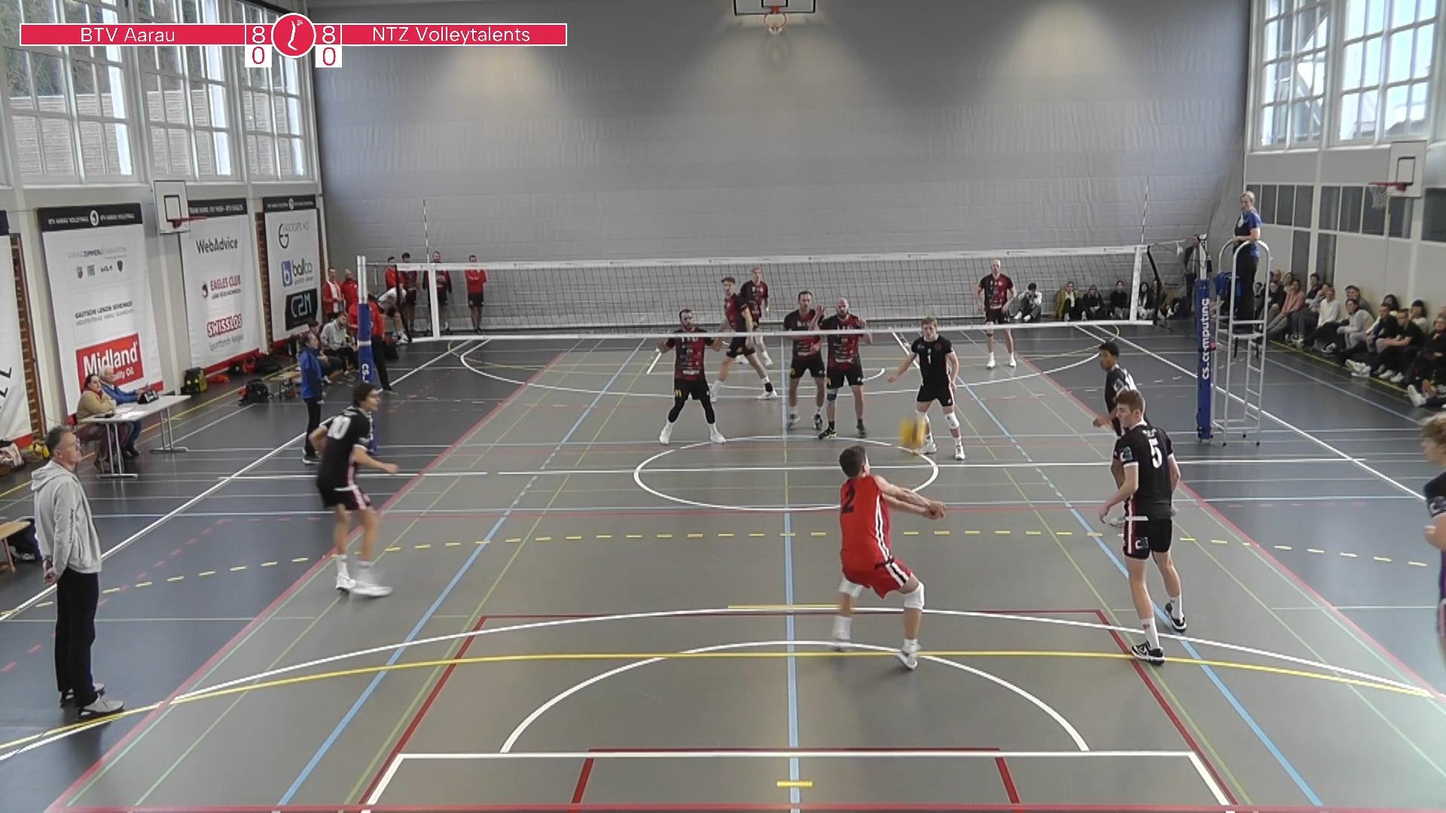ricezione: (818, 439, 950, 680)
